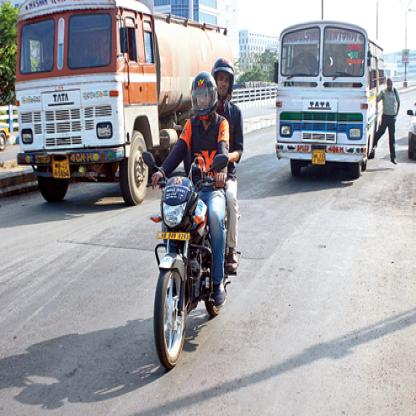bike: (151, 183, 213, 369)
